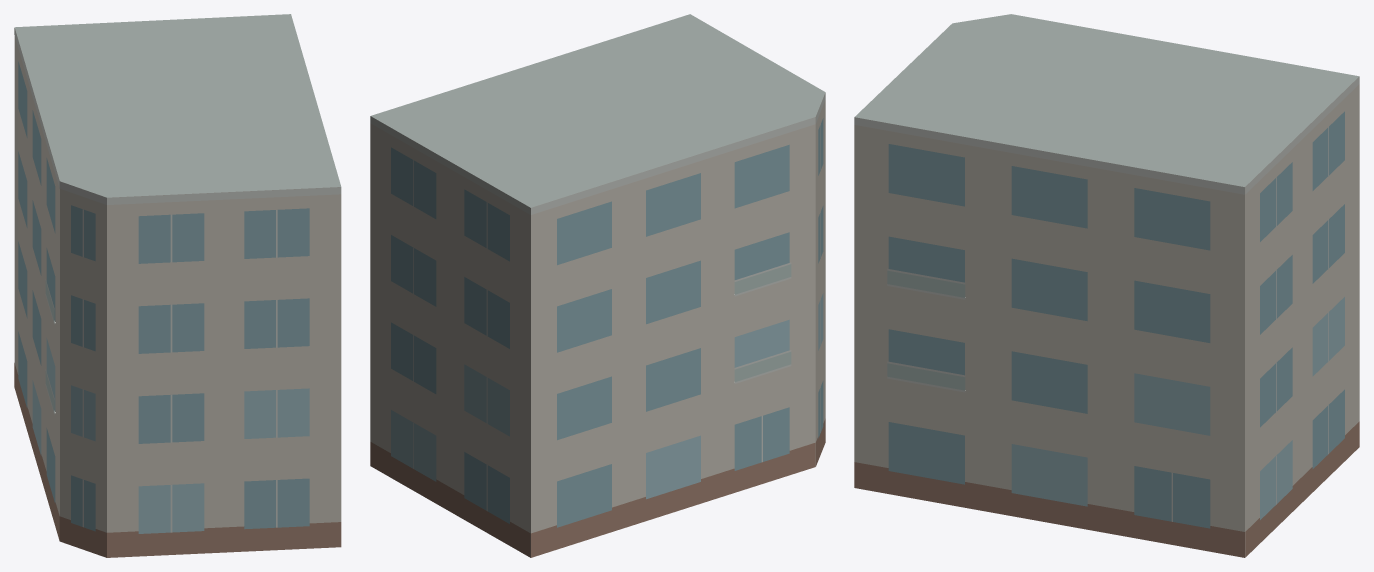
File: survey-upis-32561065.glb
The picture shows the model from 3 angles, left to right: view 1: azimuth 30°, elevation 25°; view 2: azimuth 150°, elevation 25°; view 3: azimuth 270°, elevation 25°; orthographic projection. The views are drawn at different scales.
Parts seen in each view (by area): view 1: survey-upis-32561065.tmp; view 2: survey-upis-32561065.tmp; view 3: survey-upis-32561065.tmp.
Boxes of the visible parts, bbox=[...] form: survey-upis-32561065.tmp: bbox=[14, 14, 341, 557]; survey-upis-32561065.tmp: bbox=[370, 14, 825, 557]; survey-upis-32561065.tmp: bbox=[854, 14, 1359, 557].
Bounding box in the file's own units: 11.83 × 11.8 × 14.58.
